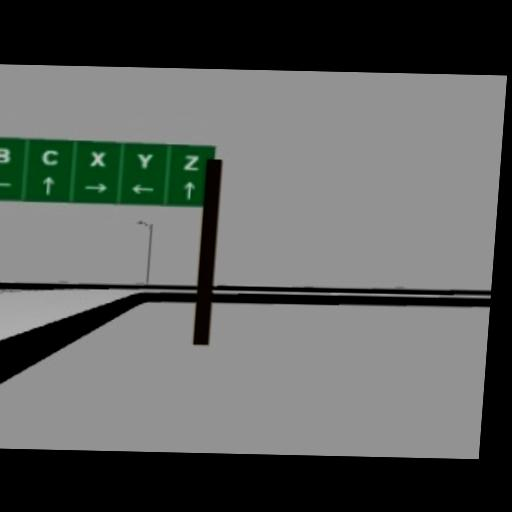B: (0, 146, 10, 162)
C: (39, 148, 60, 167)
Left: (130, 183, 154, 194), (0, 177, 11, 189)
Right: (83, 182, 107, 193)
Straight: (181, 180, 195, 201), (41, 175, 54, 195)
X: (89, 150, 106, 167)
Y: (136, 152, 153, 169)
Z: (182, 153, 201, 170)
